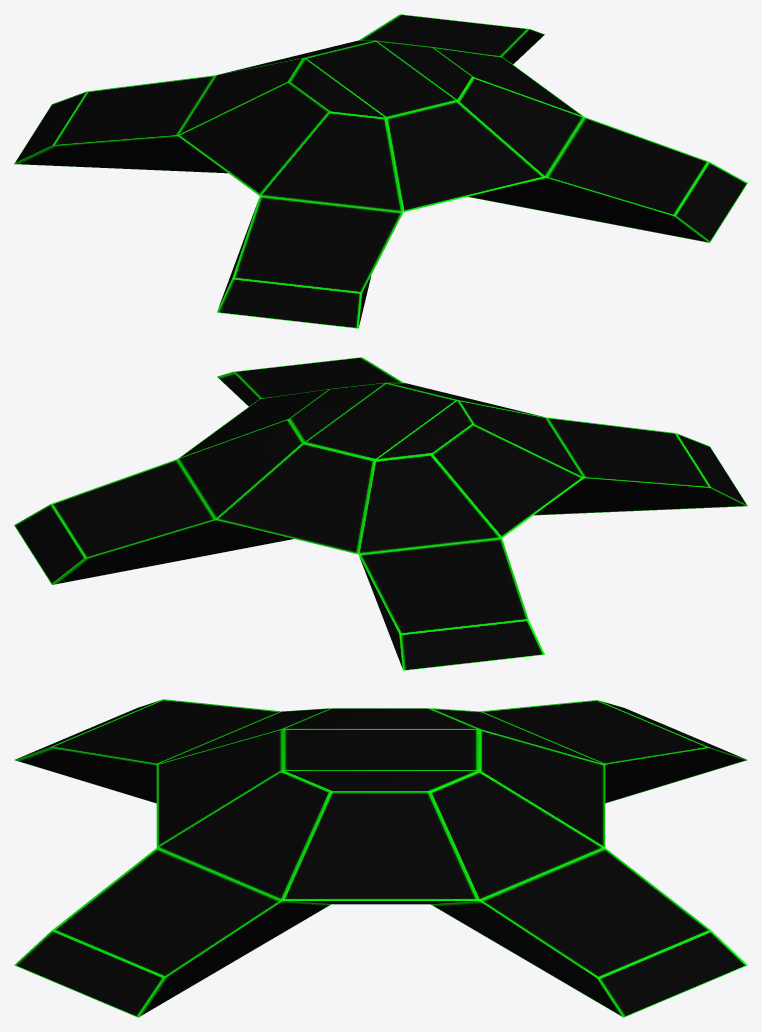
Rendered from BouncingBettyStatic.fbx.
The picture shows the model from 3 angles, top to bottom: view 1: azimuth 30°, elevation 25°; view 2: azimuth 150°, elevation 25°; view 3: azimuth 270°, elevation 25°; orthographic projection. The views are drawn at different scales.
Parts seen in each view (by area): view 1: BettyStationary; view 2: BettyStationary; view 3: BettyStationary.
Part boxes in pixels (bbox=[...]): BettyStationary: bbox=[14, 14, 747, 328]; BettyStationary: bbox=[14, 357, 747, 670]; BettyStationary: bbox=[14, 699, 747, 1017].
Size of the model in its own units: 1.92 by 0.3251 by 1.92.
